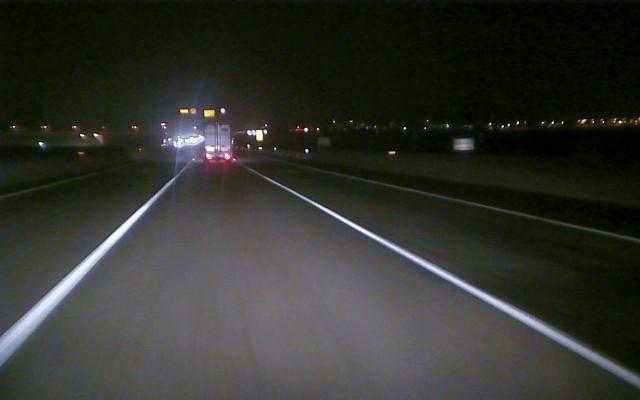lane: (257, 172, 635, 383), (4, 186, 163, 359), (372, 181, 637, 244), (0, 169, 112, 200)
